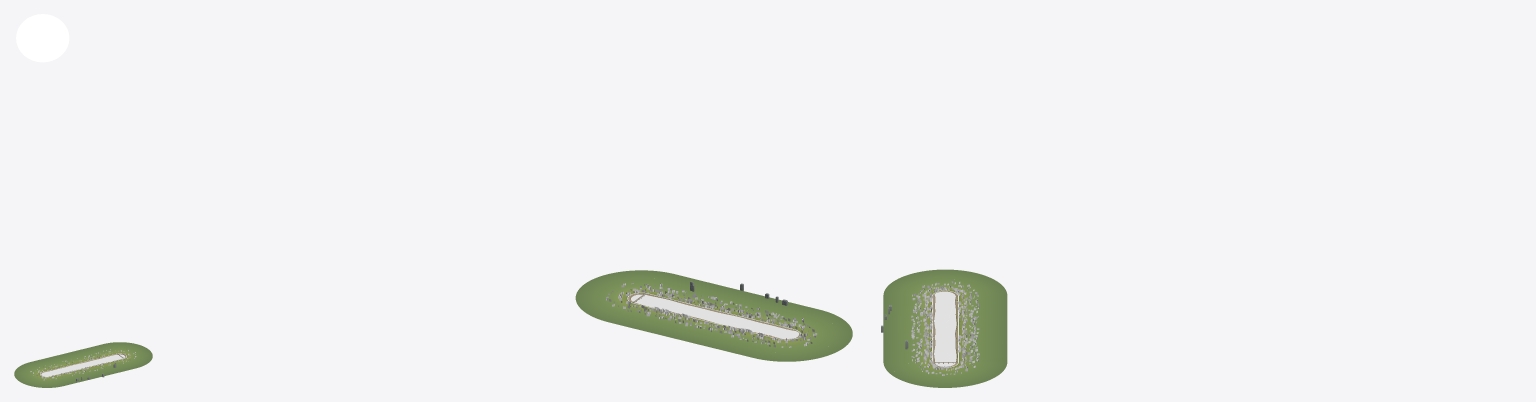
The model's file is serpentine.glb.
The picture shows the model from 3 angles, left to right: view 1: azimuth 30°, elevation 25°; view 2: azimuth 150°, elevation 25°; view 3: azimuth 270°, elevation 25°; orthographic projection. The views are drawn at different scales.
Visible parts, largest first — view 1: Sun, HydeParkLawns_020, HydeParkLawns_027, HydeParkLawns_006, HydeParkLawns_013, HydeParkLawns_019, HydeParkLawns_026, HydeParkLawns_007, HydeParkLawns_012, HydeParkLawns_005, HydeParkLawns_021, HydeParkLawns_002 (+18 smaller); view 2: HydeParkLawns_020, HydeParkLawns_006, HydeParkLawns_027, HydeParkLawns_013, HydeParkLawns_026, HydeParkLawns_019, HydeParkLawns_012, HydeParkLawns_007, HydeParkLawns_005, HydeParkLawns_021, HydeParkLawns_022, HydeParkLawns_010 (+13 smaller); view 3: HydeParkLawns_027, HydeParkLawns_006, HydeParkLawns_020, HydeParkLawns_013, HydeParkLawns_026, HydeParkLawns_019, HydeParkLawns_007, HydeParkLawns_012, HydeParkLawns_005, HydeParkLawns_021, HydeParkLawns_009, HydeParkLawns_002 (+2 smaller).
Part boxes in pixels (left/top/right/bottom): Sun: left=16, top=14, right=69, bottom=62; HydeParkLawns_020: left=121, top=342, right=152, bottom=365; HydeParkLawns_027: left=14, top=362, right=43, bottom=386; HydeParkLawns_006: left=114, top=342, right=152, bottom=361; HydeParkLawns_013: left=14, top=370, right=46, bottom=387; HydeParkLawns_019: left=95, top=342, right=124, bottom=356; HydeParkLawns_026: left=36, top=374, right=70, bottom=387; HydeParkLawns_007: left=114, top=358, right=148, bottom=370; HydeParkLawns_012: left=47, top=374, right=72, bottom=387; HydeParkLawns_005: left=93, top=342, right=117, bottom=356; HydeParkLawns_021: left=112, top=359, right=140, bottom=371; HydeParkLawns_002: left=53, top=353, right=78, bottom=366; HydeParkLawns_020: left=575, top=270, right=659, bottom=306; HydeParkLawns_006: left=575, top=270, right=640, bottom=315; HydeParkLawns_027: left=757, top=330, right=852, bottom=361; HydeParkLawns_013: left=791, top=320, right=852, bottom=360; HydeParkLawns_026: left=777, top=306, right=851, bottom=333; HydeParkLawns_019: left=580, top=300, right=650, bottom=326; HydeParkLawns_012: left=772, top=305, right=842, bottom=331; HydeParkLawns_007: left=638, top=270, right=692, bottom=299; HydeParkLawns_005: left=593, top=302, right=655, bottom=327; HydeParkLawns_021: left=646, top=272, right=697, bottom=299; HydeParkLawns_022: left=672, top=280, right=724, bottom=306; HydeParkLawns_010: left=719, top=292, right=772, bottom=318; HydeParkLawns_027: left=909, top=269, right=1006, bottom=295; HydeParkLawns_006: left=896, top=364, right=1002, bottom=387; HydeParkLawns_020: left=885, top=363, right=990, bottom=387; HydeParkLawns_013: left=893, top=269, right=988, bottom=293; HydeParkLawns_026: left=883, top=275, right=937, bottom=302; HydeParkLawns_019: left=954, top=354, right=1007, bottom=378; HydeParkLawns_007: left=883, top=353, right=935, bottom=376; HydeParkLawns_012: left=883, top=283, right=935, bottom=305; HydeParkLawns_005: left=955, top=352, right=1007, bottom=369; HydeParkLawns_021: left=883, top=351, right=935, bottom=366; HydeParkLawns_009: left=883, top=329, right=935, bottom=341; HydeParkLawns_002: left=956, top=315, right=1007, bottom=327.
Size of the model in its own units: 3469 by 3783 by 5367.
